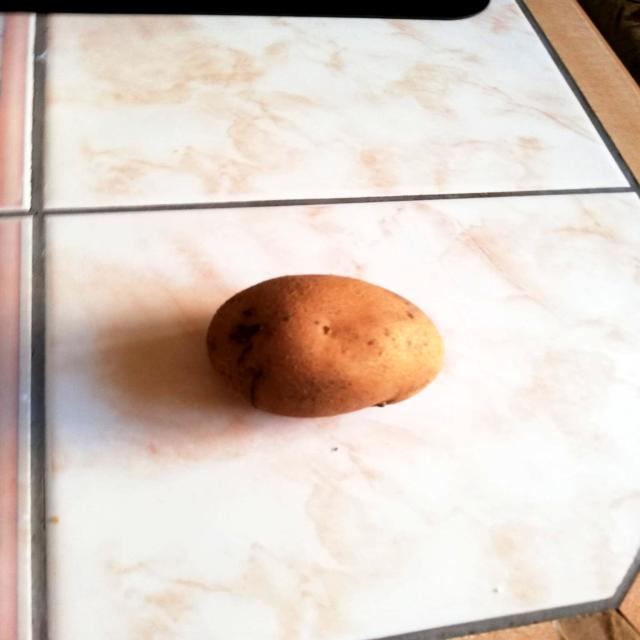potato: (200, 264, 454, 420)
